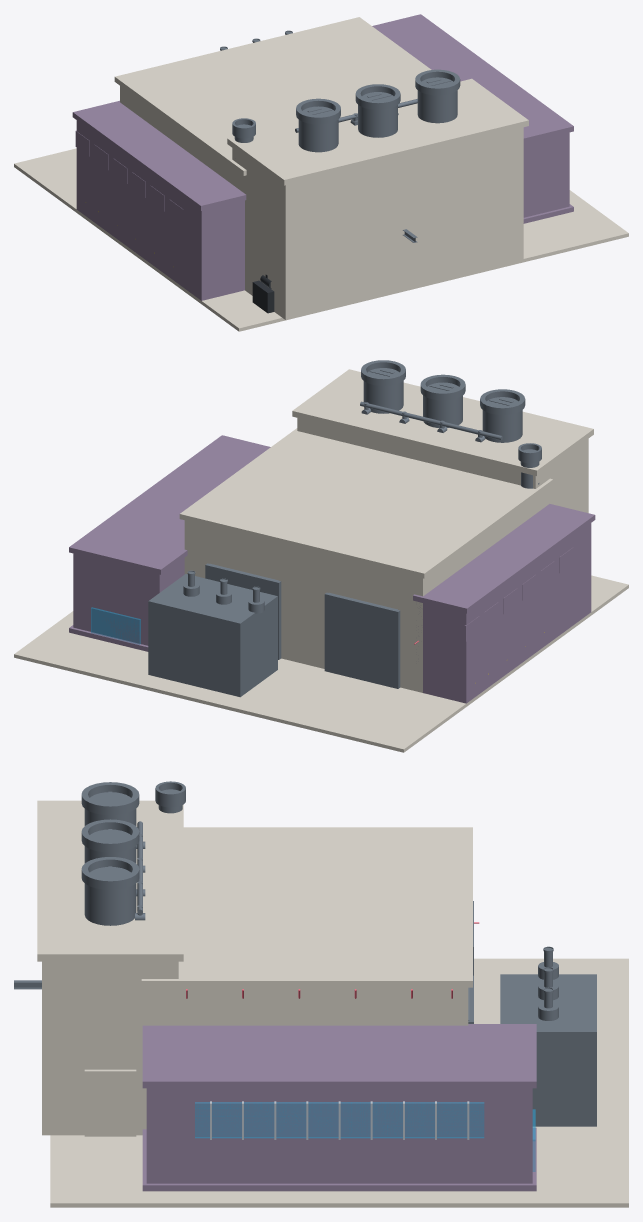
The model's file is hq_09_commercial_l4.glb.
The picture shows the model from 3 angles, top to bottom: view 1: azimuth 30°, elevation 25°; view 2: azimuth 150°, elevation 25°; view 3: azimuth 270°, elevation 25°; orthographic projection. The views are drawn at different scales.
Parts seen in each view (by area): view 1: GEO_Commercial_Powertrain_Cell_Shell, GEO_Commercial_Service_Depot_Shell, GEO_Commercial_Shaker_Rig_Shell, GEO_Commercial_Dispatch_Halls, GEO_Commercial_Foundation_Plinth, GEO_Commercial_Cooling_Towers, GEO_Commercial_HPU_Pumping_Skid, GEO_Commercial_Soot_Exhaust_Stack; view 2: GEO_Commercial_Service_Depot_Shell, GEO_Commercial_Shaker_Rig_Shell, GEO_Commercial_Foundation_Plinth, GEO_Commercial_Dispatch_Halls, GEO_Commercial_Powertrain_Cell_Shell, GEO_Commercial_Dust_Ingress_Chamber, GEO_Commercial_HighClearance_Doors, GEO_Commercial_Cooling_Towers, GEO_Commercial_Dispatch_Glass, GEO_Commercial_Soot_Exhaust_Stack; view 3: GEO_Commercial_Dispatch_Halls, GEO_Commercial_Service_Depot_Shell, GEO_Commercial_Powertrain_Cell_Shell, GEO_Commercial_Foundation_Plinth, GEO_Commercial_Dust_Ingress_Chamber, GEO_Commercial_Dispatch_Glass, GEO_Commercial_Cooling_Towers, GEO_Commercial_Dispatch_Mullions, GEO_Commercial_Soot_Exhaust_Stack.
Part boxes in pixels (x1,y1,x2,y2): GEO_Commercial_Powertrain_Cell_Shell: (227,78,528,319); GEO_Commercial_Service_Depot_Shell: (114,17,431,183); GEO_Commercial_Shaker_Rig_Shell: (72,100,246,300); GEO_Commercial_Dispatch_Halls: (372,14,573,223); GEO_Commercial_Foundation_Plinth: (14,148,628,331); GEO_Commercial_Cooling_Towers: (295,69,460,242); GEO_Commercial_HPU_Pumping_Skid: (252,274,274,313); GEO_Commercial_Soot_Exhaust_Stack: (232,118,255,142); GEO_Commercial_Service_Depot_Shell: (179,428,553,692); GEO_Commercial_Shaker_Rig_Shell: (413,504,595,703); GEO_Commercial_Foundation_Plinth: (14,575,628,752); GEO_Commercial_Dispatch_Halls: (69,435,270,651); GEO_Commercial_Powertrain_Cell_Shell: (292,369,593,512); GEO_Commercial_Dust_Ingress_Chamber: (148,570,277,697); GEO_Commercial_HighClearance_Doors: (205,563,400,688); GEO_Commercial_Cooling_Towers: (360,360,525,442); GEO_Commercial_Dispatch_Glass: (91,607,140,644); GEO_Commercial_Soot_Exhaust_Stack: (518,443,541,488); GEO_Commercial_Dispatch_Halls: (142,1024,536,1191); GEO_Commercial_Service_Depot_Shell: (141,827,472,1025); GEO_Commercial_Powertrain_Cell_Shell: (37,800,183,1136); GEO_Commercial_Foundation_Plinth: (50,958,628,1207); GEO_Commercial_Dust_Ingress_Chamber: (500,946,596,1126); GEO_Commercial_Dispatch_Glass: (195,1102,535,1171); GEO_Commercial_Cooling_Towers: (14,782,145,989); GEO_Commercial_Dispatch_Mullions: (210,1101,469,1139); GEO_Commercial_Soot_Exhaust_Stack: (155,781,185,813).
Size of what is drawn, in the model's own units: 36.2 by 16 by 38.25.
